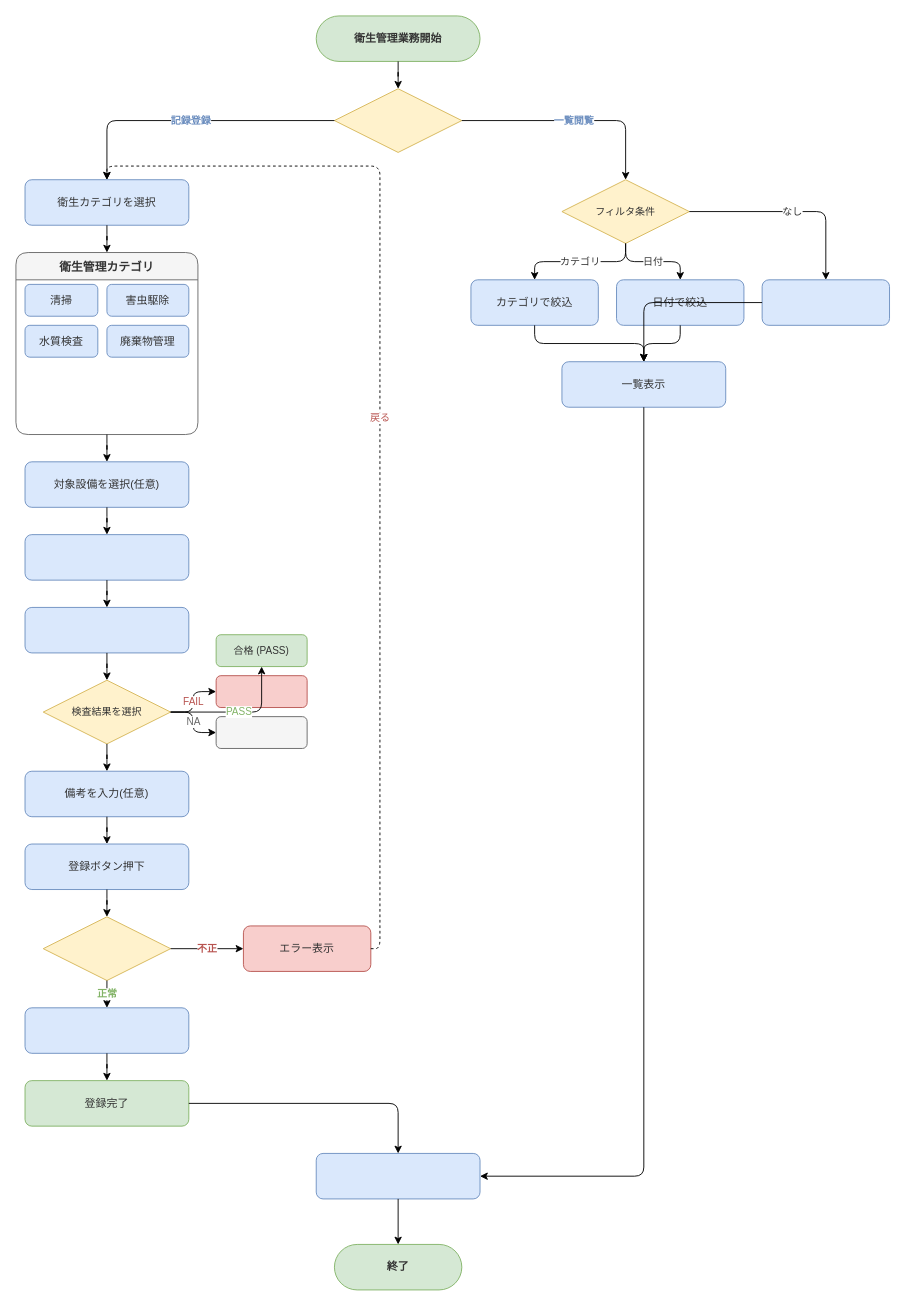
The diagram is 905 pixels wide and 1306 high, and some of its shapes have lost their labels. Here are the shapes that lost their labels. From the top down, the box of each, then its label:
(334, 88, 462, 152): 操作を選択
(761, 279, 890, 325): フィルタなし
(24, 534, 189, 580): 記録日を入力
(24, 607, 189, 653): 実施内容の詳細を入力
(215, 675, 307, 708): 不合格 (FAIL)
(215, 716, 307, 748): 対象外 (NA)
(42, 916, 171, 981): 入力値 バリデーション
(24, 1007, 189, 1053): DB保存
(315, 1153, 480, 1199): 一覧画面表示
